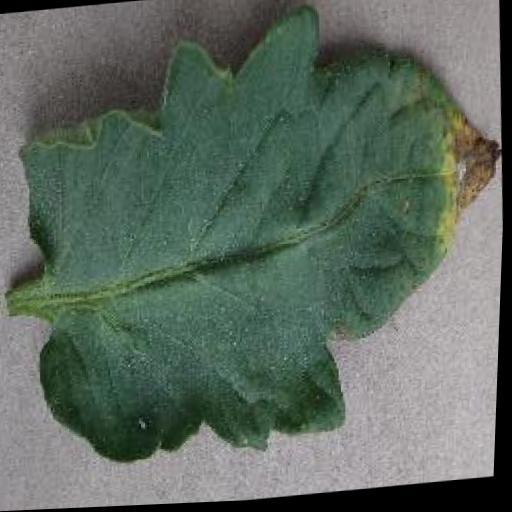Bacterial Spot: (0, 0, 512, 480)
